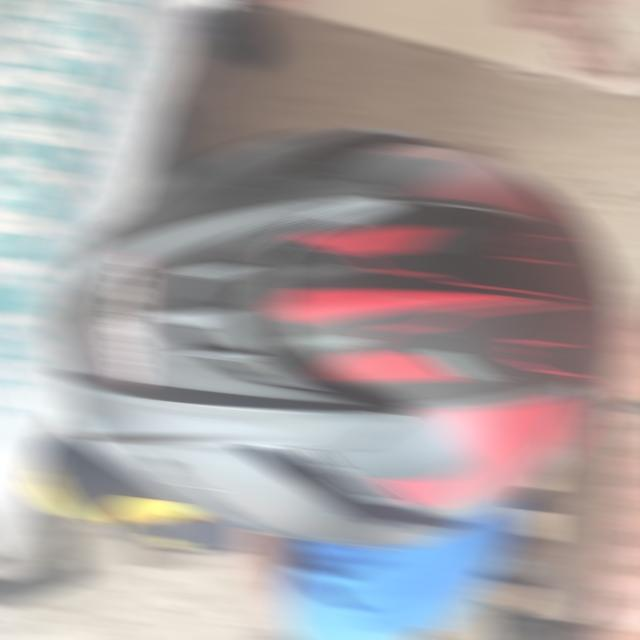With Helmet: (23, 124, 634, 549)
